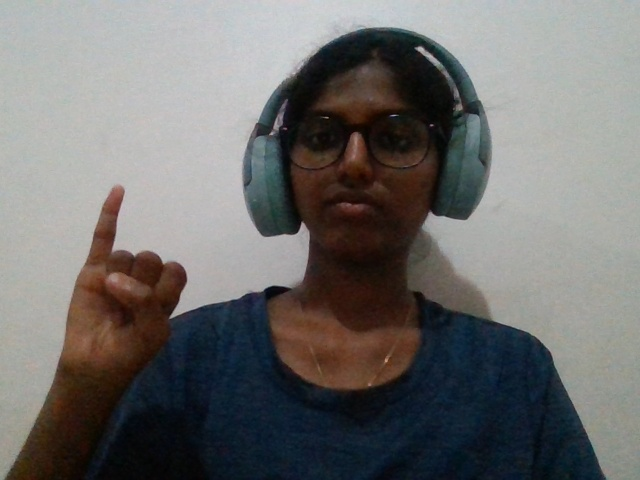I: (34, 182, 200, 449)
